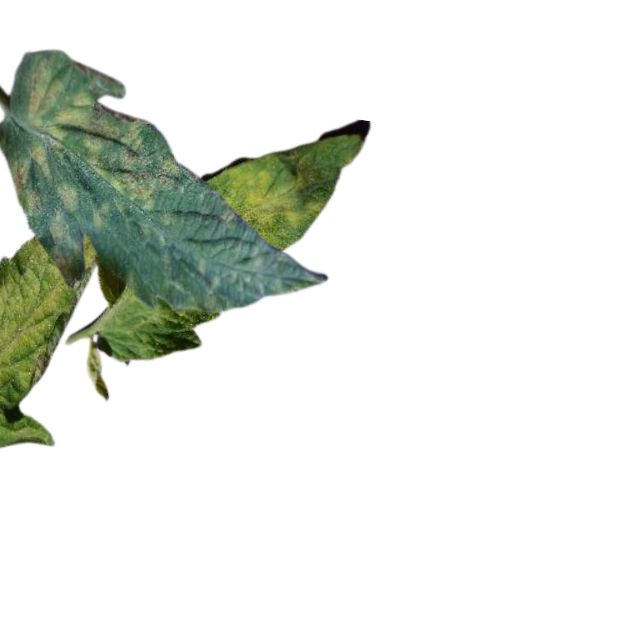Leaf_Mold: (11, 56, 191, 226), (1, 226, 89, 385), (219, 158, 322, 242)
